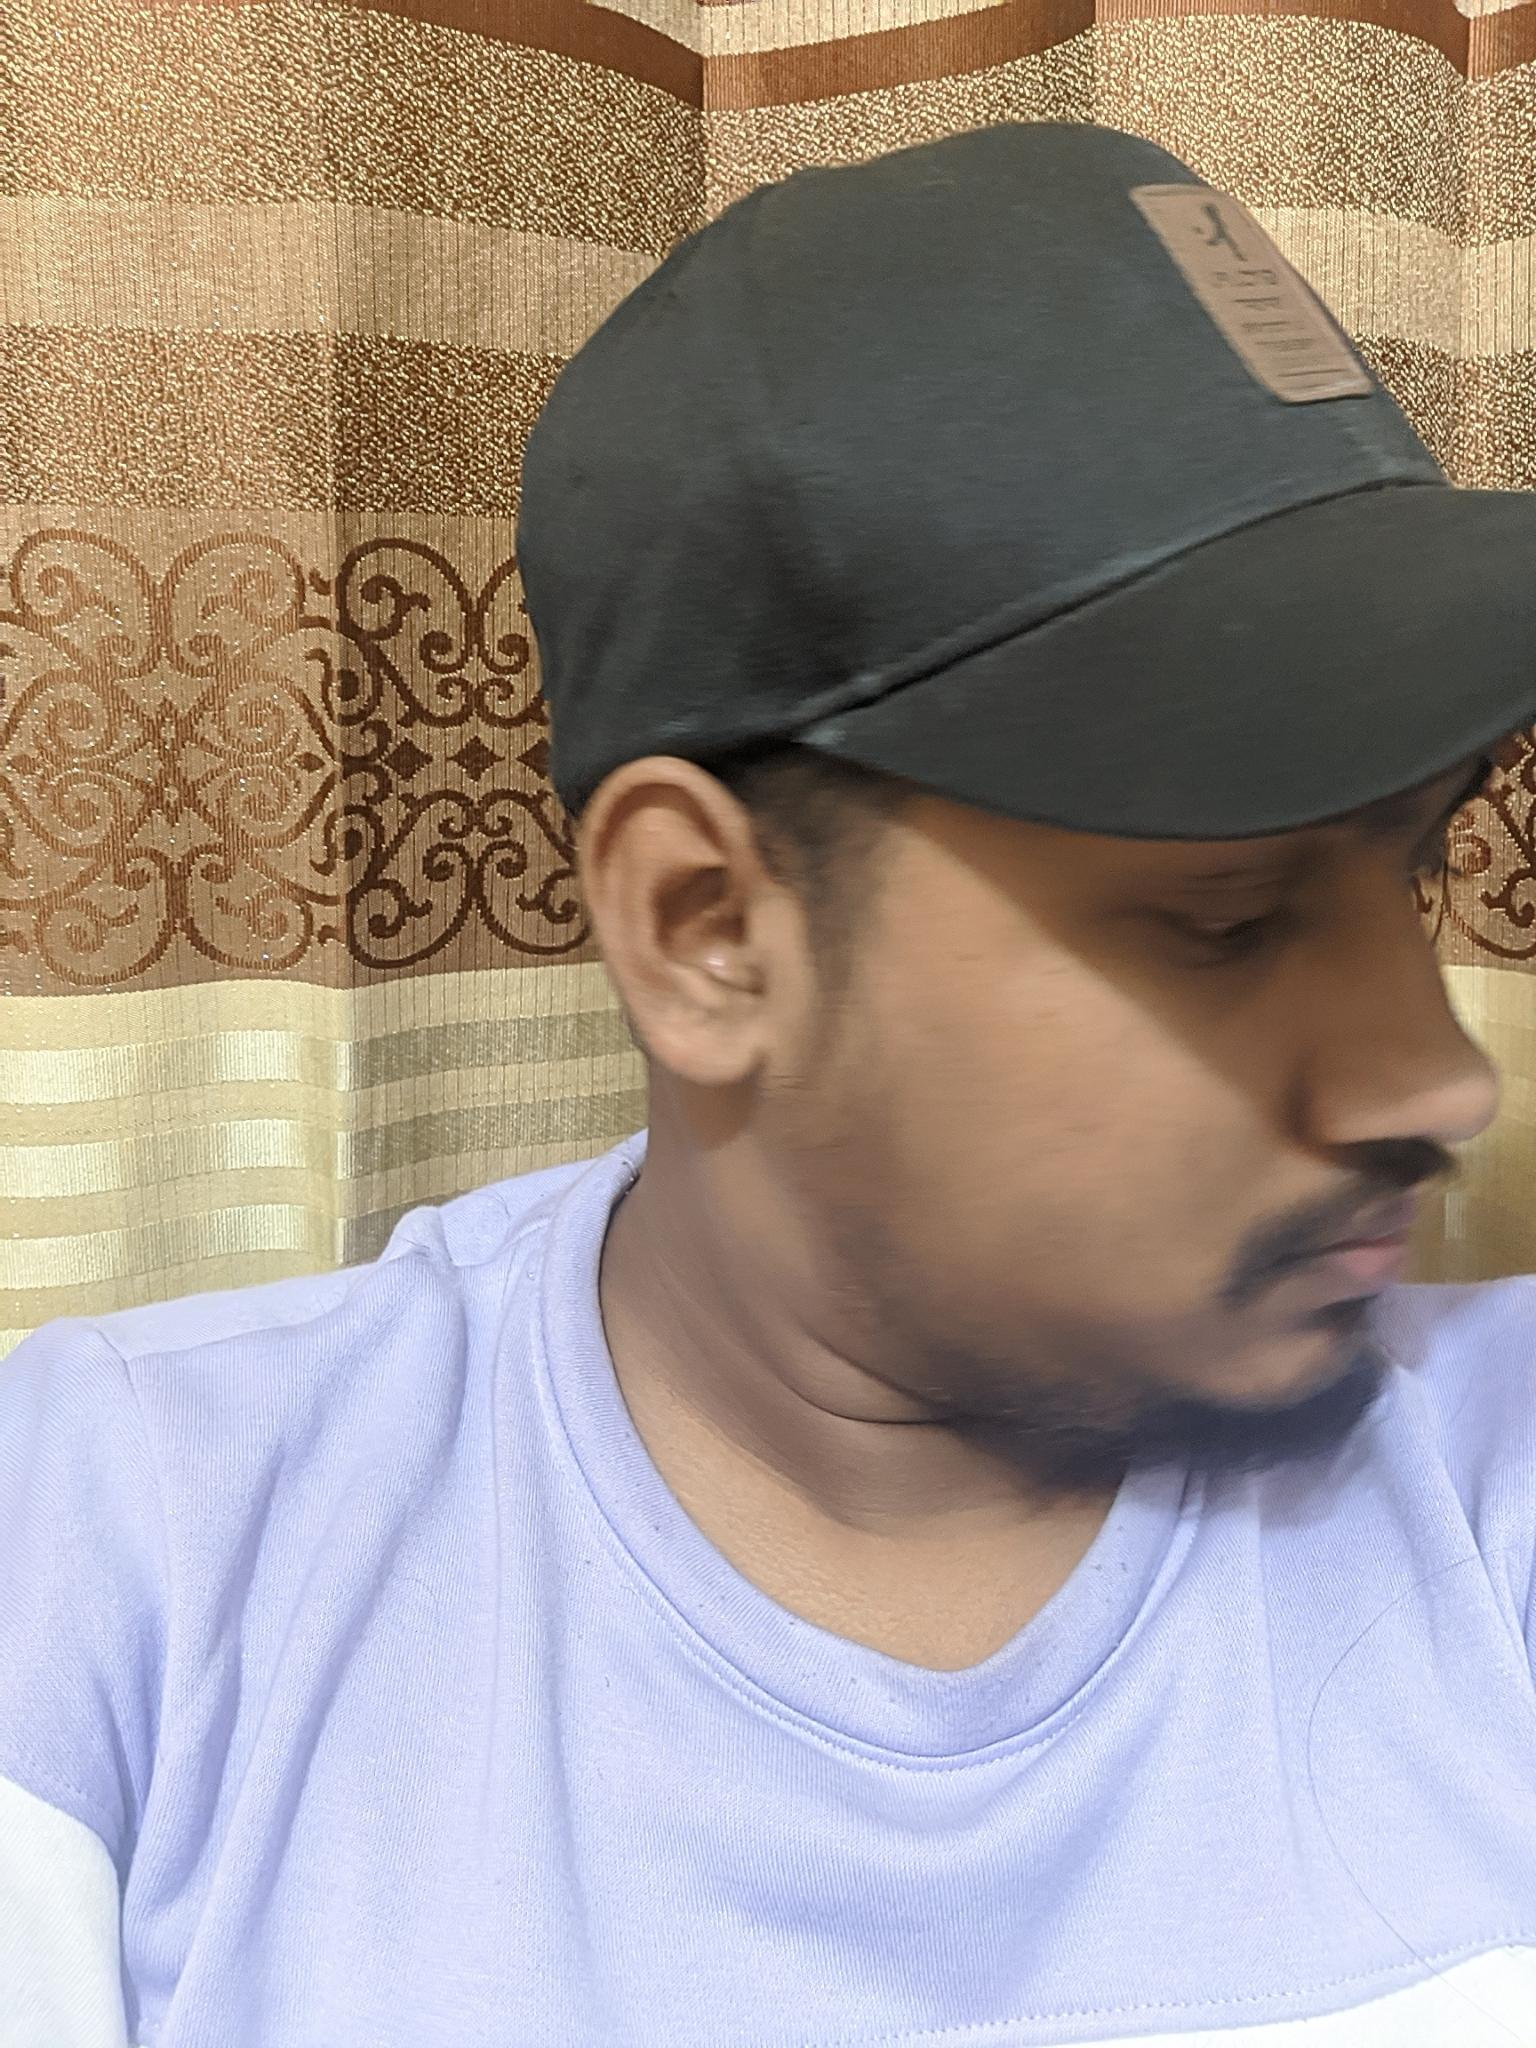Neutral: (1099, 806, 1517, 1455)
